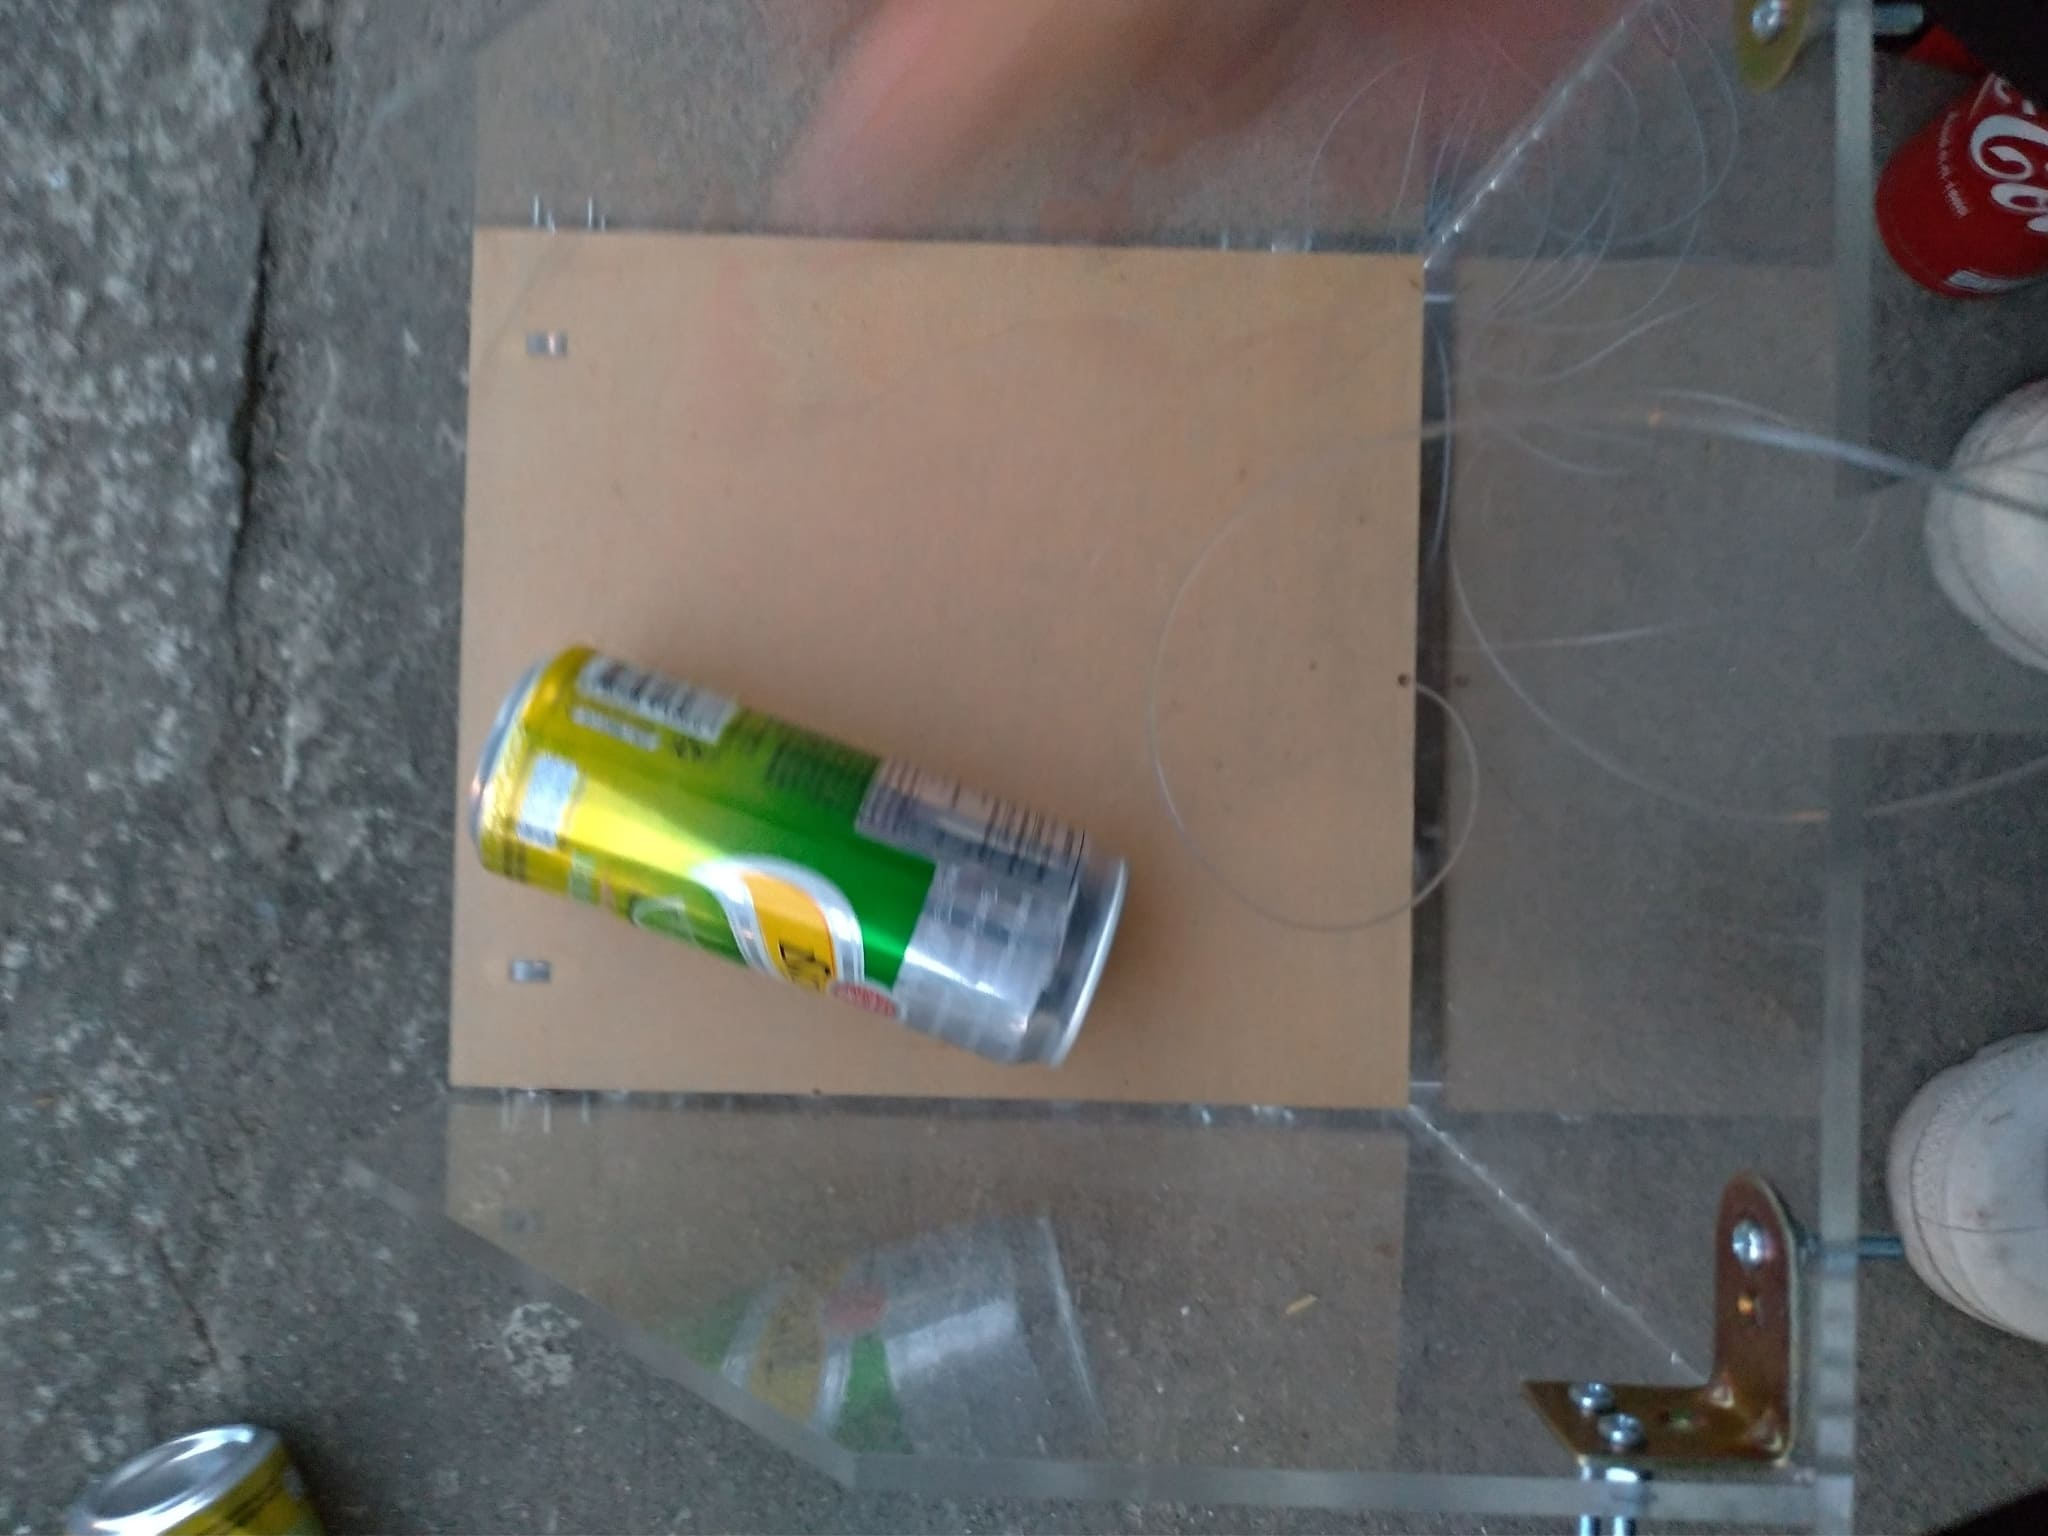AlCan: (460, 649, 1127, 1063), (1882, 39, 2048, 295), (68, 1417, 314, 1536)
